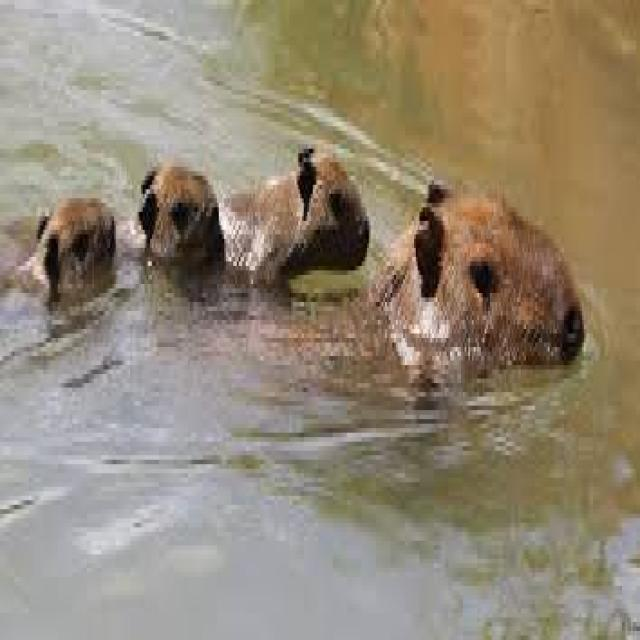capy: (83, 192, 586, 390), (218, 134, 372, 308), (8, 191, 116, 339), (120, 151, 218, 285)
